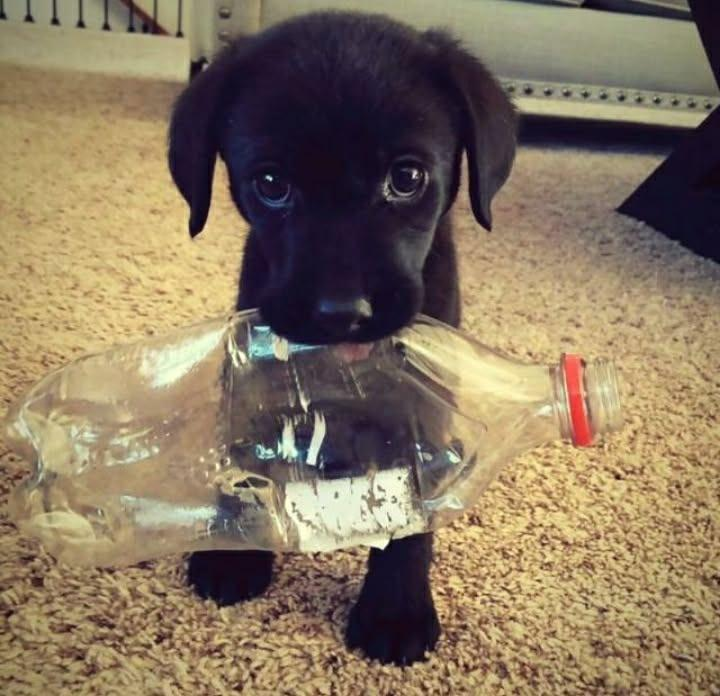puppy-dog: (162, 8, 523, 667)
